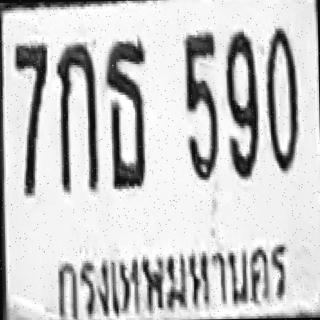A01: (55, 43, 99, 194)
A24: (104, 38, 148, 186)
N00: (264, 25, 298, 174)
N05: (182, 31, 219, 181), (182, 30, 216, 116)
N07: (14, 41, 49, 189), (14, 42, 49, 160), (14, 43, 48, 140)
N09: (224, 29, 259, 179)
P04: (40, 236, 294, 320)
